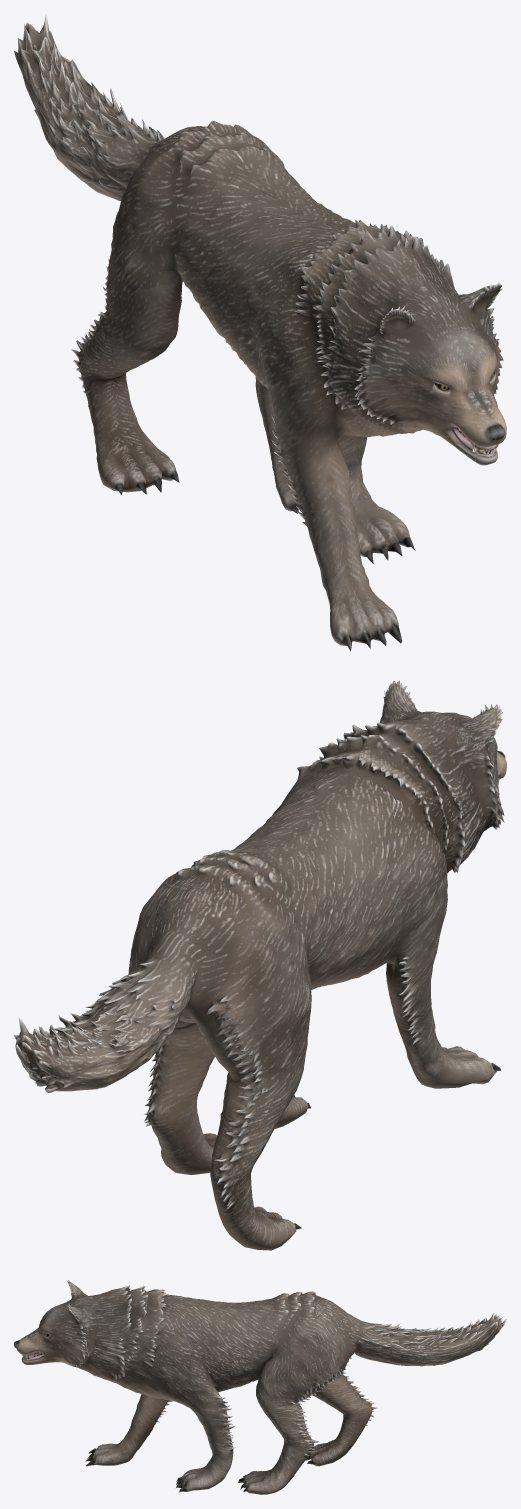
File: MZ4250 - Wolf.glb
3 renders of one model, top to bottom at view 1: azimuth 30°, elevation 25°; view 2: azimuth 150°, elevation 25°; view 3: azimuth 270°, elevation 25°, orthographic. The views are drawn at different scales.
Visible parts, largest first — view 1: Wolfey2.003; view 2: Wolfey2.003; view 3: Wolfey2.003.
Boxes of the visible parts, box(x1,y1,x2,y2) form: Wolfey2.003: box(14, 14, 506, 651); Wolfey2.003: box(14, 680, 506, 1250); Wolfey2.003: box(14, 1280, 506, 1494).
Size of the model in its own units: 9.21 by 18.35 by 43.11.
1 material, 1 textured.
